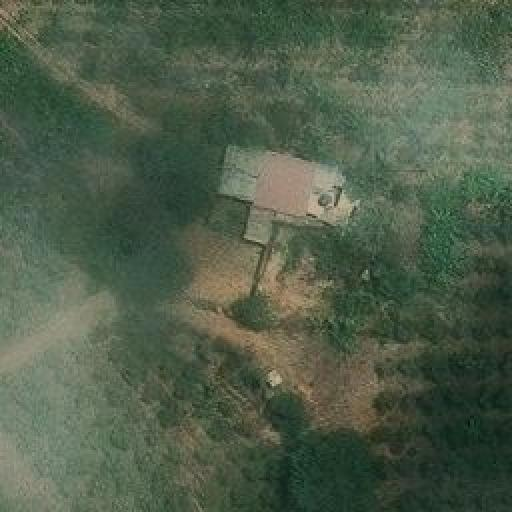manzanas: (185, 139, 352, 321)
